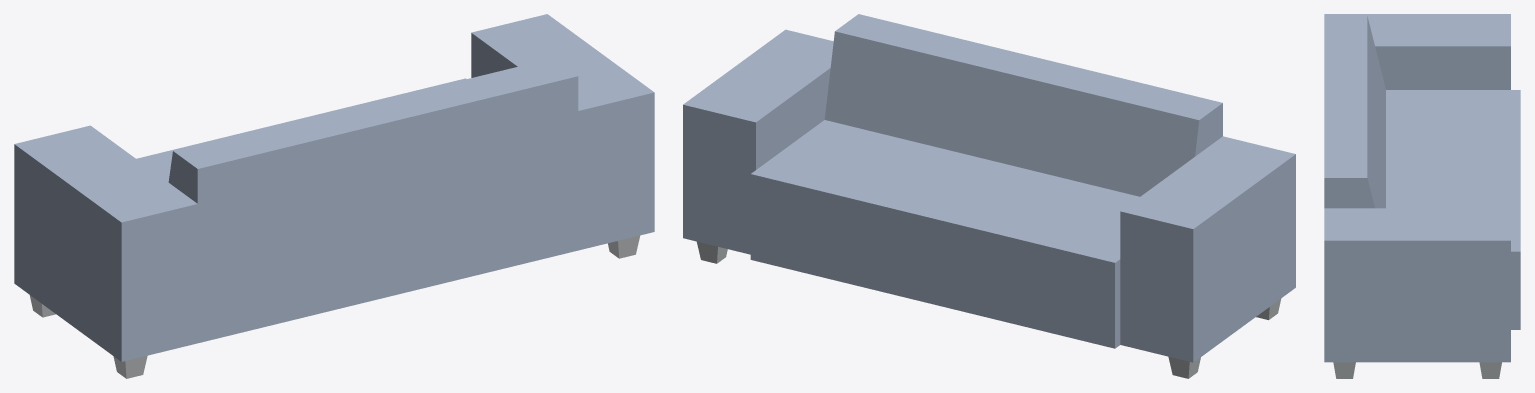
File: furn_loungeDesignSofa.glb
3 views of the same model, side by side, from view 1: azimuth 30°, elevation 25°; view 2: azimuth 150°, elevation 25°; view 3: azimuth 270°, elevation 25° (orthographic). The views are drawn at different scales.
Bounding box in the file's own units: 2.24 × 0.8 × 0.82.
